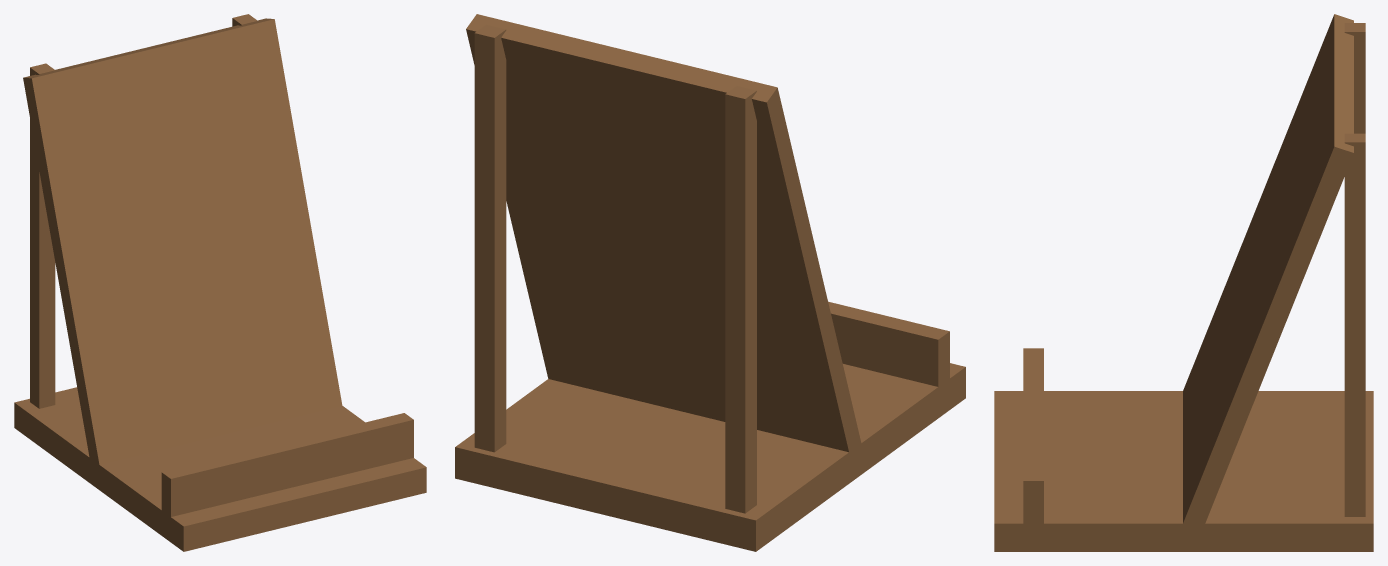
File: book_stand.glb
3 renders of one model, left to right at view 1: azimuth 30°, elevation 25°; view 2: azimuth 150°, elevation 25°; view 3: azimuth 270°, elevation 25°, orthographic. The views are drawn at different scales.
Visible parts, largest first — view 1: Part1, Part0, Part2, Part3; view 2: Part1, Part0, Part4, Part3, Part2; view 3: Part0, Part1, Part4, Part2, Part3.
Boxes of the visible parts, left/top/right/bottom form: Part1: left=23, top=18, right=342, bottom=466; Part0: left=14, top=387, right=426, bottom=551; Part2: left=161, top=413, right=413, bottom=516; Part3: left=30, top=63, right=55, bottom=408; Part1: left=466, top=14, right=861, bottom=459; Part0: left=455, top=363, right=965, bottom=551; Part4: left=474, top=24, right=506, bottom=452; Part3: left=725, top=86, right=756, bottom=513; Part2: left=828, top=301, right=949, bottom=386; Part0: left=994, top=391, right=1373, bottom=551; Part1: left=1182, top=14, right=1353, bottom=531; Part4: left=1344, top=133, right=1365, bottom=516; Part2: left=1023, top=348, right=1043, bottom=523; Part3: left=1344, top=23, right=1365, bottom=133.
Bounding box in the file's own units: 0.12 × 0.171 × 0.145.
